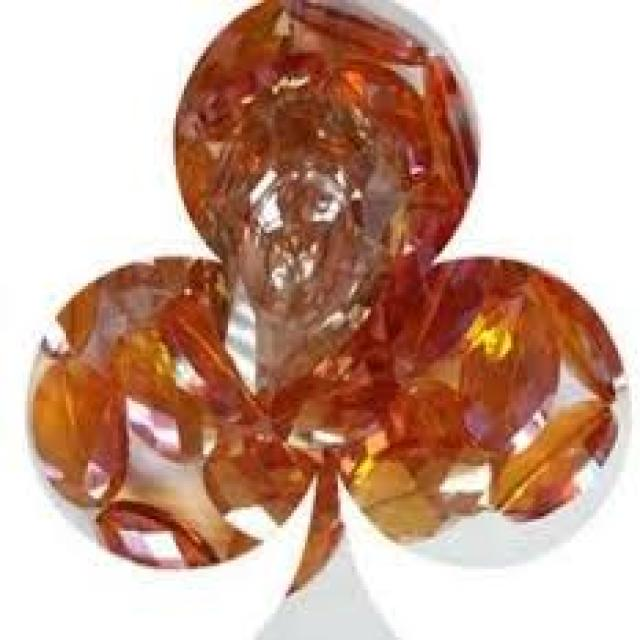glass: (30, 0, 626, 593)
